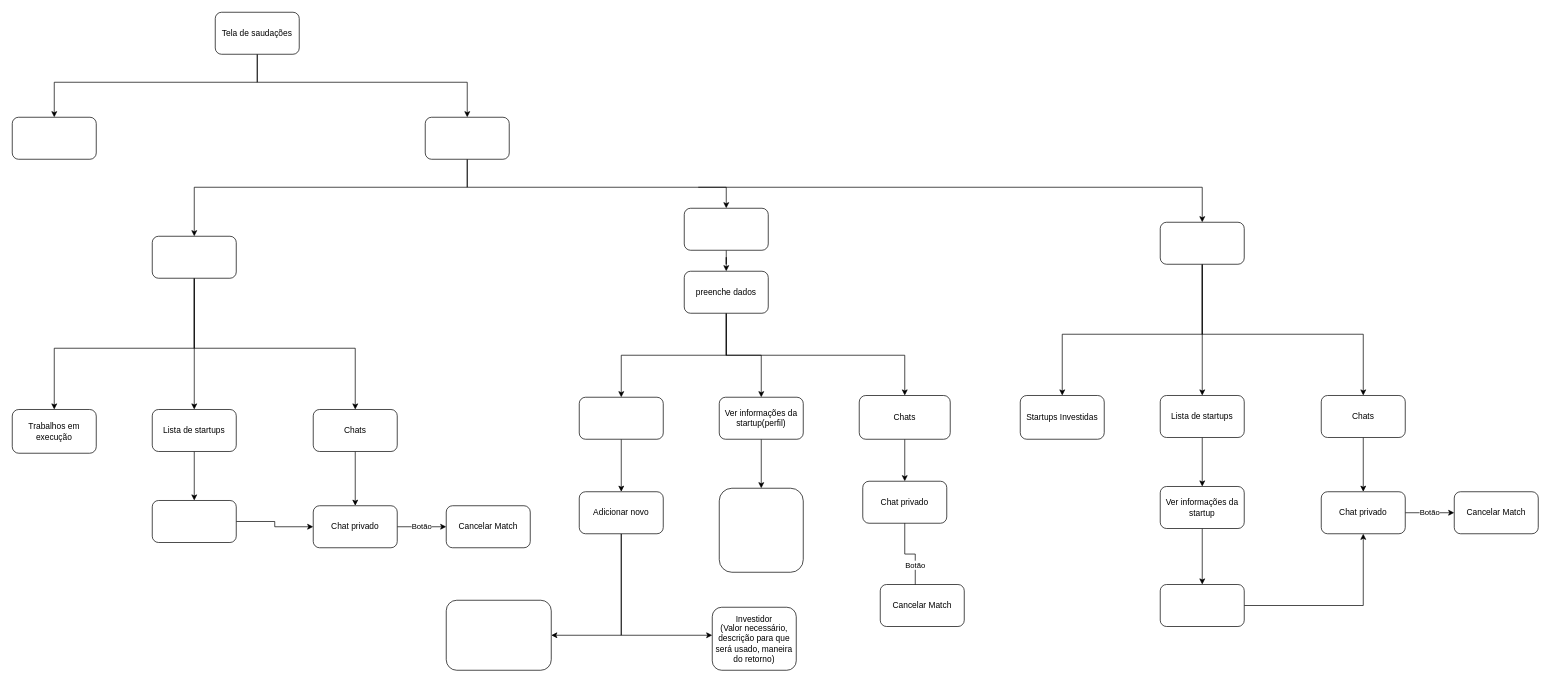
The diagram is 1551 pixels wide and 683 high, and some of its shapes have lost their labels. Each missing label, with the box of its shape:
Cadastro: (425, 117, 509, 159)
Desenvolvedor: (152, 236, 236, 278)
Desenvolvedor (Descrição do que precisa ser feito, Linguagens necessárias: (446, 600, 551, 670)
Editar informações da startup (Foto de perfil,: (719, 488, 803, 572)
Escolher quanto de dinheiro ele quer dar: (1160, 584, 1244, 626)
Investidor: (1160, 222, 1244, 264)
Login: (12, 117, 96, 159)
Requerimentos: (579, 397, 663, 439)
Startup: (684, 208, 768, 250)
Ver informações da startup + job: (152, 500, 236, 542)
